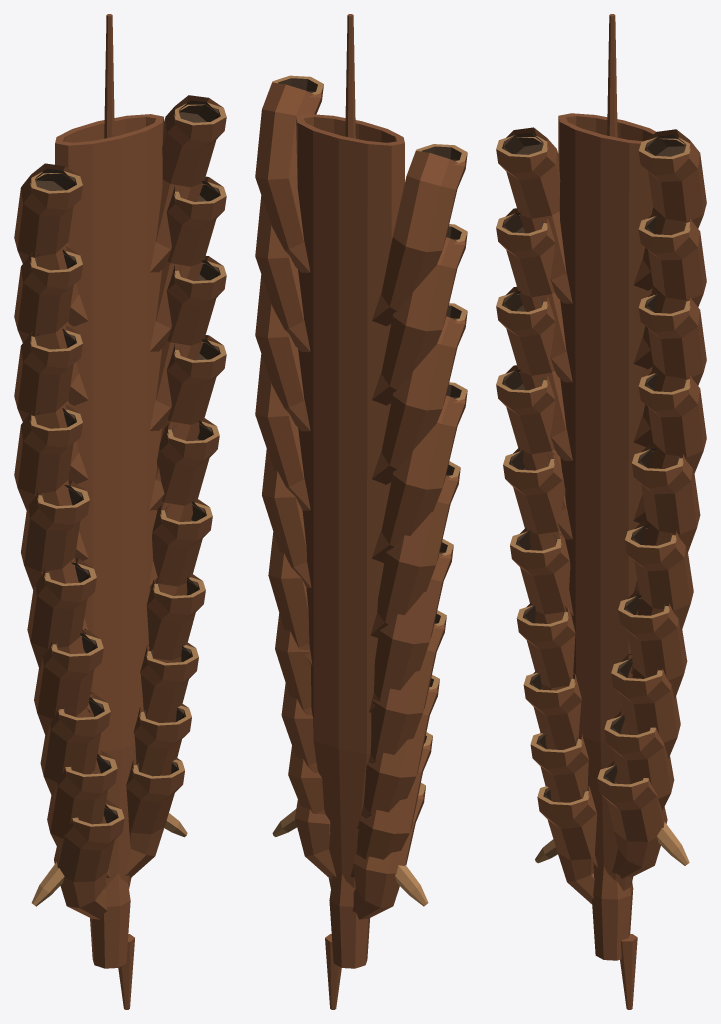
The model's file is diplograptus.glb.
3 renders of one model, left to right at view 1: azimuth 30°, elevation 25°; view 2: azimuth 150°, elevation 25°; view 3: azimuth 330°, elevation 25°, orthographic.
Visible parts, largest first — view 1: diplograptus-original-tubarium; view 2: diplograptus-original-tubarium; view 3: diplograptus-original-tubarium.
Boxes of the visible parts, bbox=[...] form: diplograptus-original-tubarium: bbox=[14, 14, 226, 1009]; diplograptus-original-tubarium: bbox=[255, 14, 467, 1009]; diplograptus-original-tubarium: bbox=[496, 14, 706, 1009].
Size of the model in its own units: 0.00254 by 0.0126 by 0.00106.
